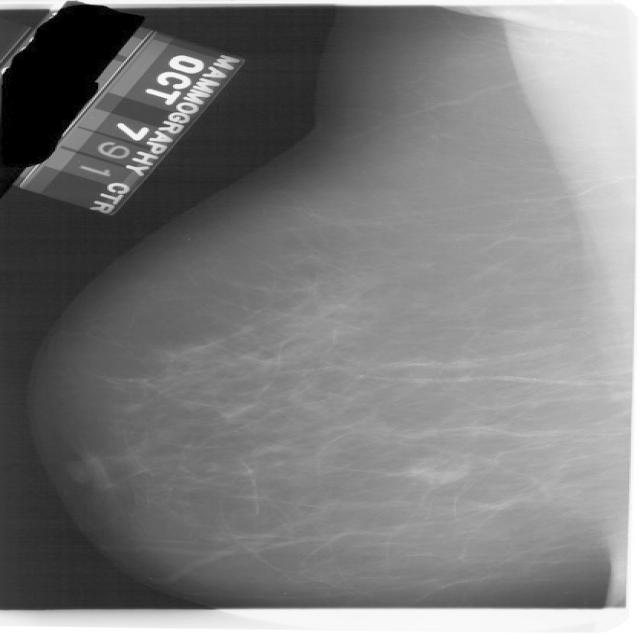tumour: (404, 461, 472, 486)
